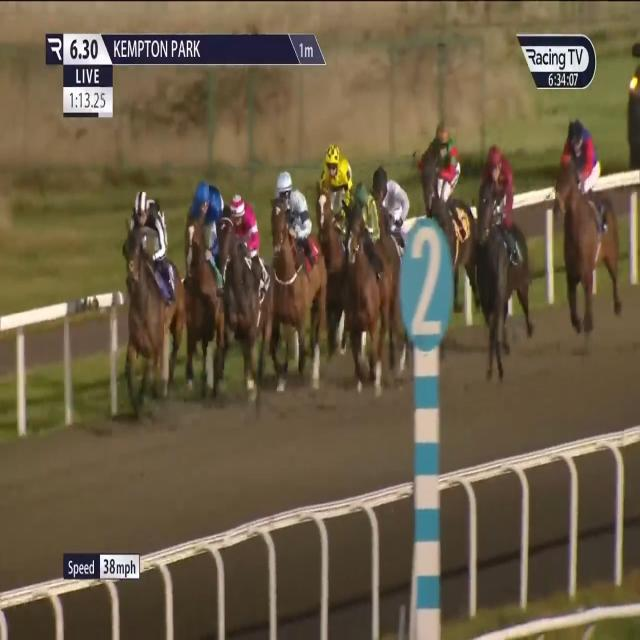horses-racing: (266, 166, 333, 372), (556, 115, 620, 321), (476, 142, 538, 351), (216, 188, 280, 383), (124, 185, 184, 382), (419, 126, 483, 295), (340, 187, 398, 371), (182, 170, 232, 347), (314, 131, 358, 293), (365, 161, 416, 289)
